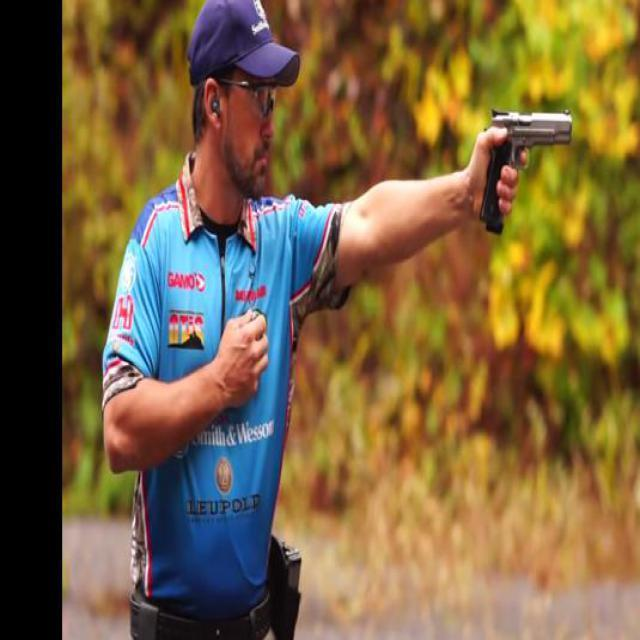gun: (481, 103, 572, 232)
